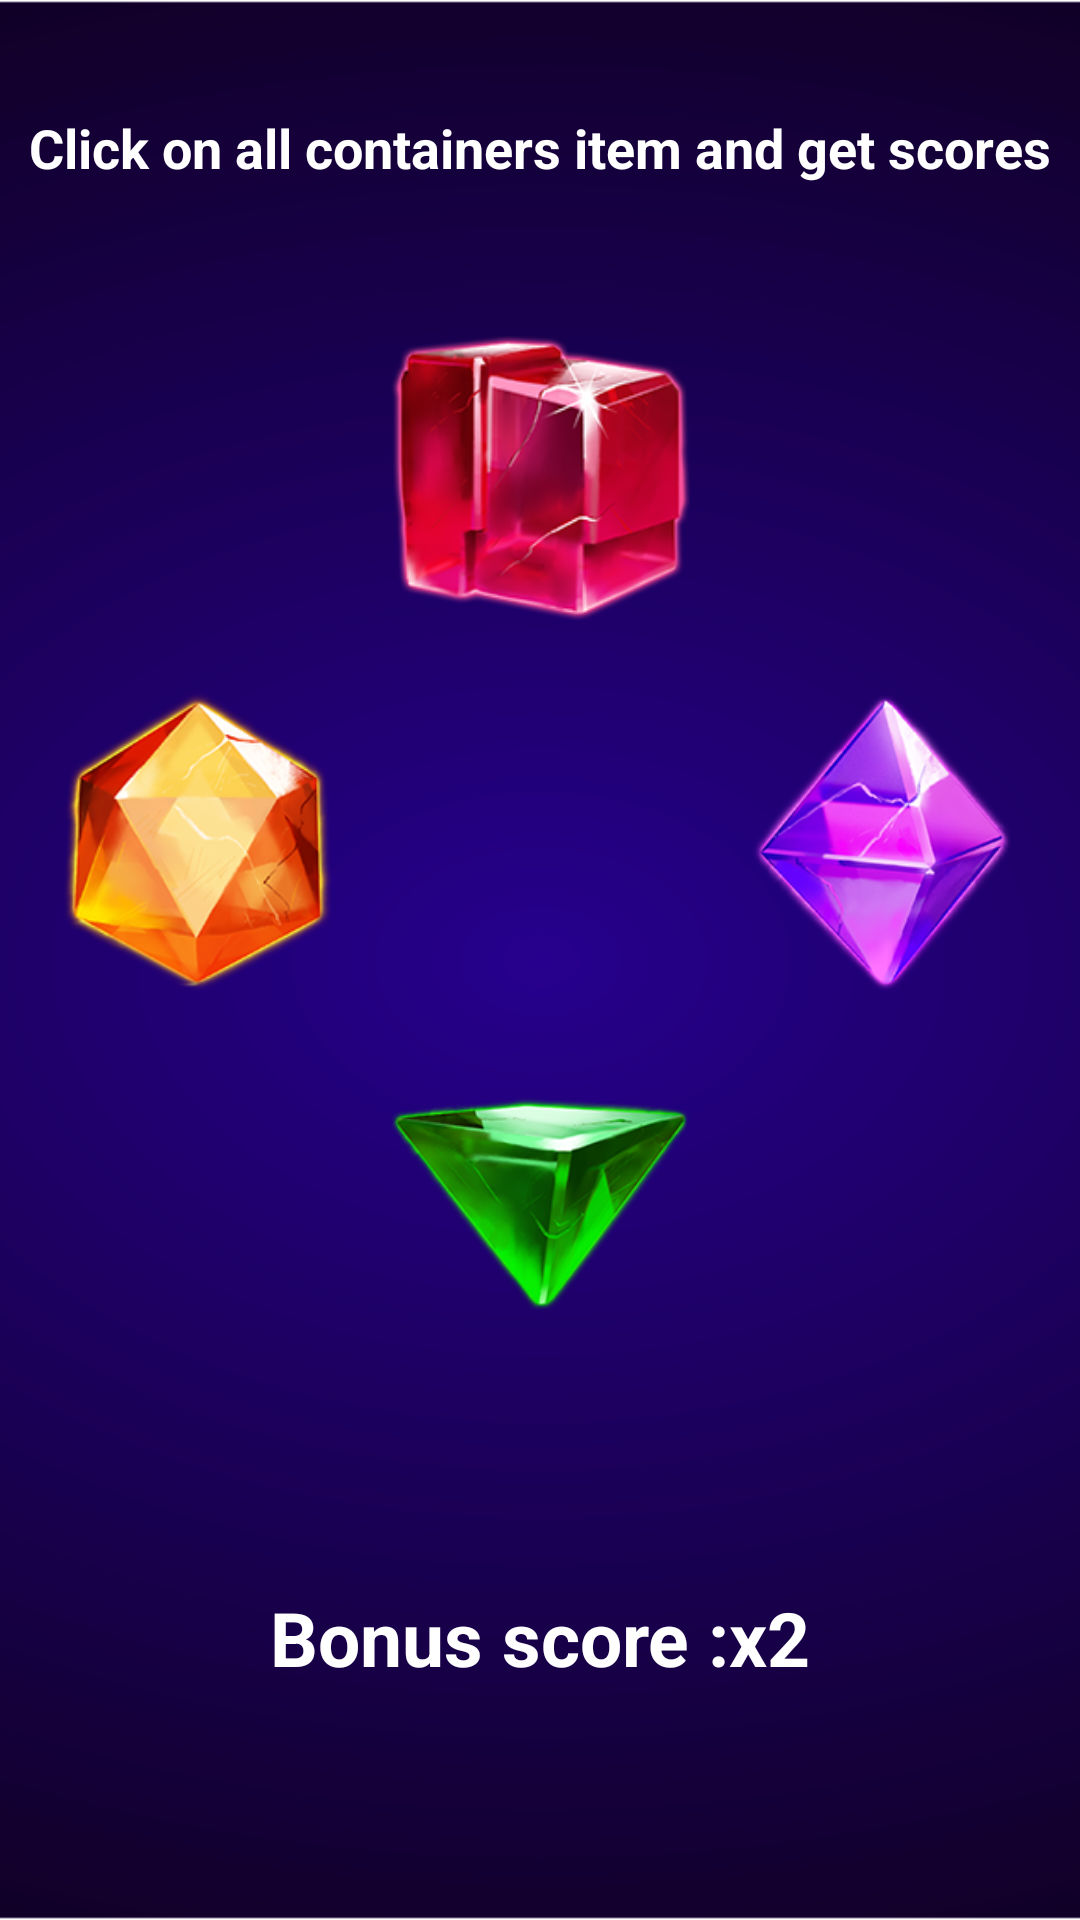

Screen size 1080w x 1920h. Icon name, then its box in pixels as (left=x1, top=y1, right=x2, bottom=y2):
brill par: (left=393, top=338, right=689, bottom=619), (left=67, top=697, right=329, bottom=987), (left=755, top=698, right=1008, bottom=988), (left=393, top=1100, right=687, bottom=1308)
